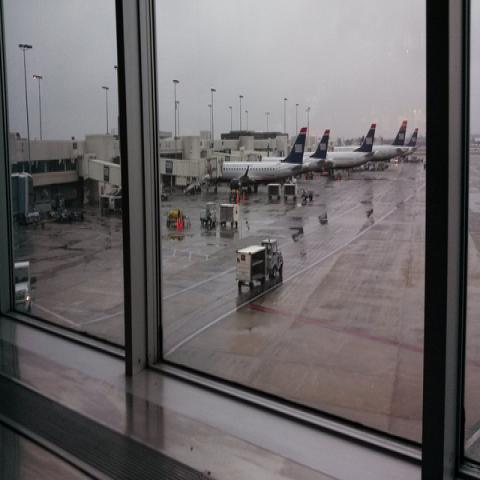truck: (235, 237, 284, 290), (200, 200, 240, 229), (13, 261, 31, 311)
